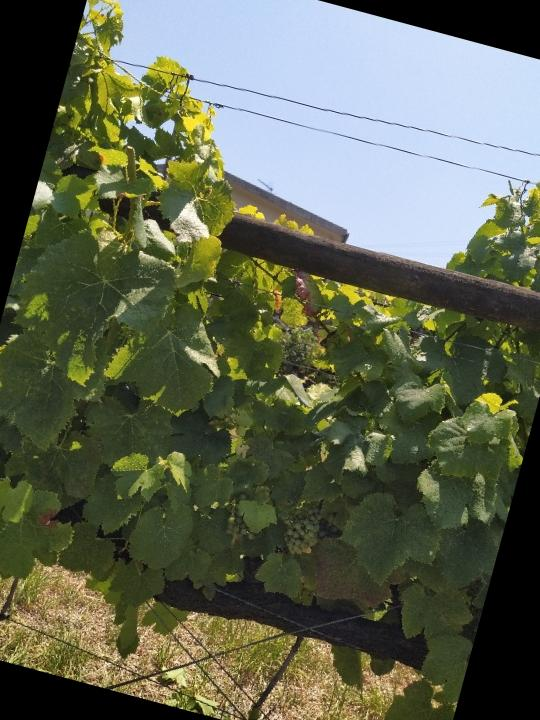grape: (272, 498, 329, 562)
